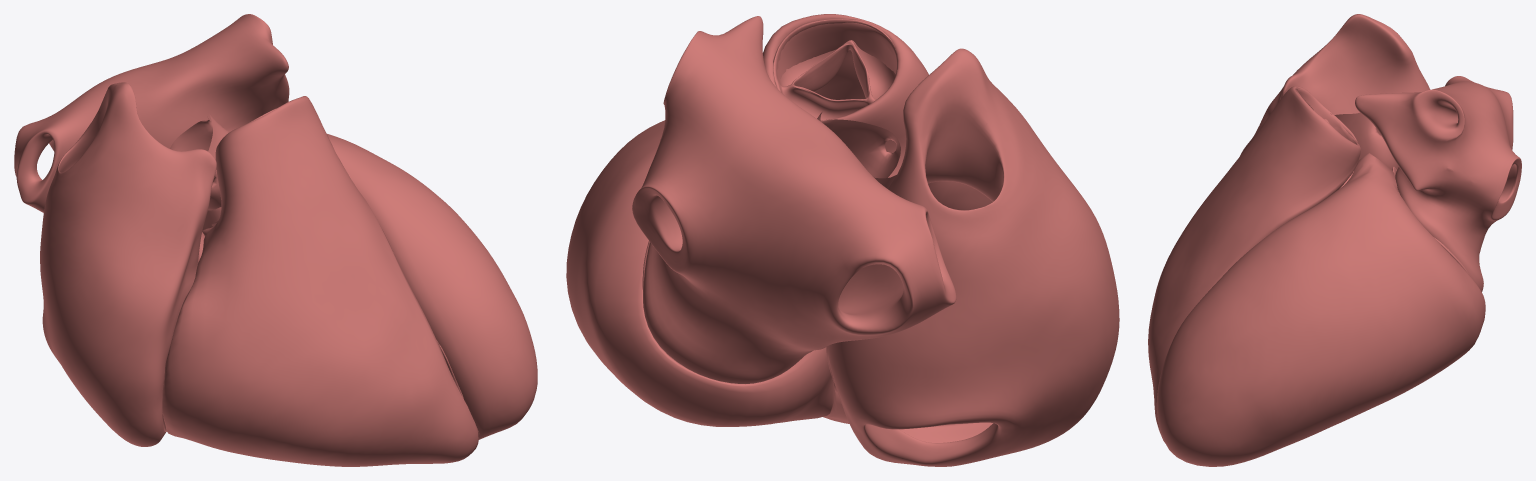
The model's file is VH_M_Heart.glb.
3 renders of one model, left to right at view 1: azimuth 30°, elevation 25°; view 2: azimuth 150°, elevation 25°; view 3: azimuth 270°, elevation 25°, orthographic. The views are drawn at different scales.
Parts seen in each view (by area): view 1: VH_M_heart_right_ventricle, VH_M_right_cardiac_atrium, VH_M_heart_left_ventricle, VH_M_left_cardiac_atrium, VH_M_aortic_valve; view 2: VH_M_left_cardiac_atrium, VH_M_right_cardiac_atrium, VH_M_heart_left_ventricle, VH_M_heart_right_ventricle, VH_M_pulmonary_valve, VH_M_aortic_valve; view 3: VH_M_heart_left_ventricle, VH_M_heart_right_ventricle, VH_M_left_cardiac_atrium, VH_M_right_cardiac_atrium, VH_M_aortic_valve.
Part boxes in pixels (x1,y1,x2,y2): VH_M_heart_right_ventricle: (162, 96, 478, 466); VH_M_right_cardiac_atrium: (40, 82, 216, 446); VH_M_heart_left_ventricle: (202, 134, 537, 439); VH_M_left_cardiac_atrium: (14, 14, 289, 212); VH_M_aortic_valve: (170, 114, 229, 210); VH_M_left_cardiac_atrium: (632, 16, 956, 383); VH_M_right_cardiac_atrium: (826, 48, 1119, 466); VH_M_heart_left_ventricle: (566, 120, 833, 426); VH_M_heart_right_ventricle: (763, 14, 928, 423); VH_M_pulmonary_valve: (773, 19, 895, 119); VH_M_aortic_valve: (817, 112, 900, 188); VH_M_heart_left_ventricle: (1156, 153, 1485, 466); VH_M_heart_right_ventricle: (1148, 86, 1360, 442); VH_M_left_cardiac_atrium: (1355, 76, 1521, 291); VH_M_right_cardiac_atrium: (1240, 14, 1430, 155); VH_M_aortic_valve: (1334, 112, 1398, 169).
Size of the model in its own units: 0.1243 by 0.1054 by 0.1052.
